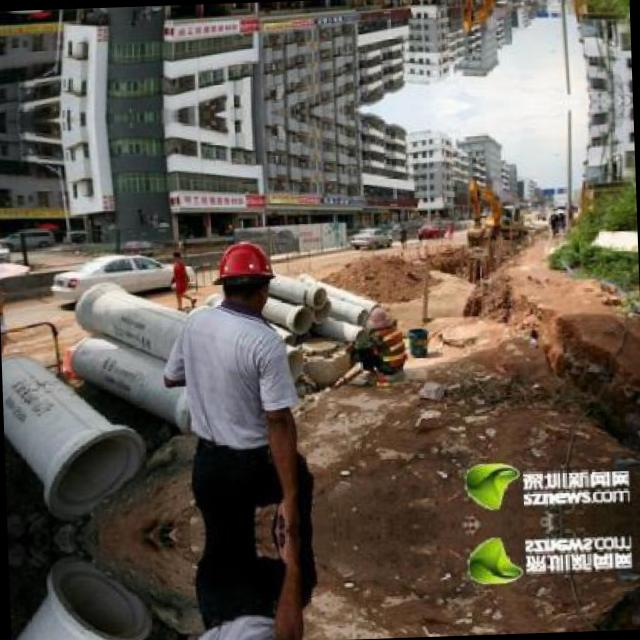helmet: (205, 230, 283, 310)
